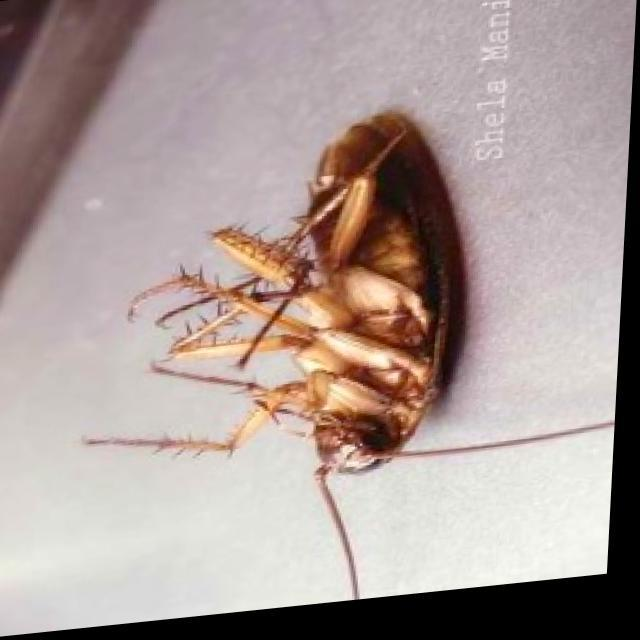cockroach: (79, 107, 473, 600)
